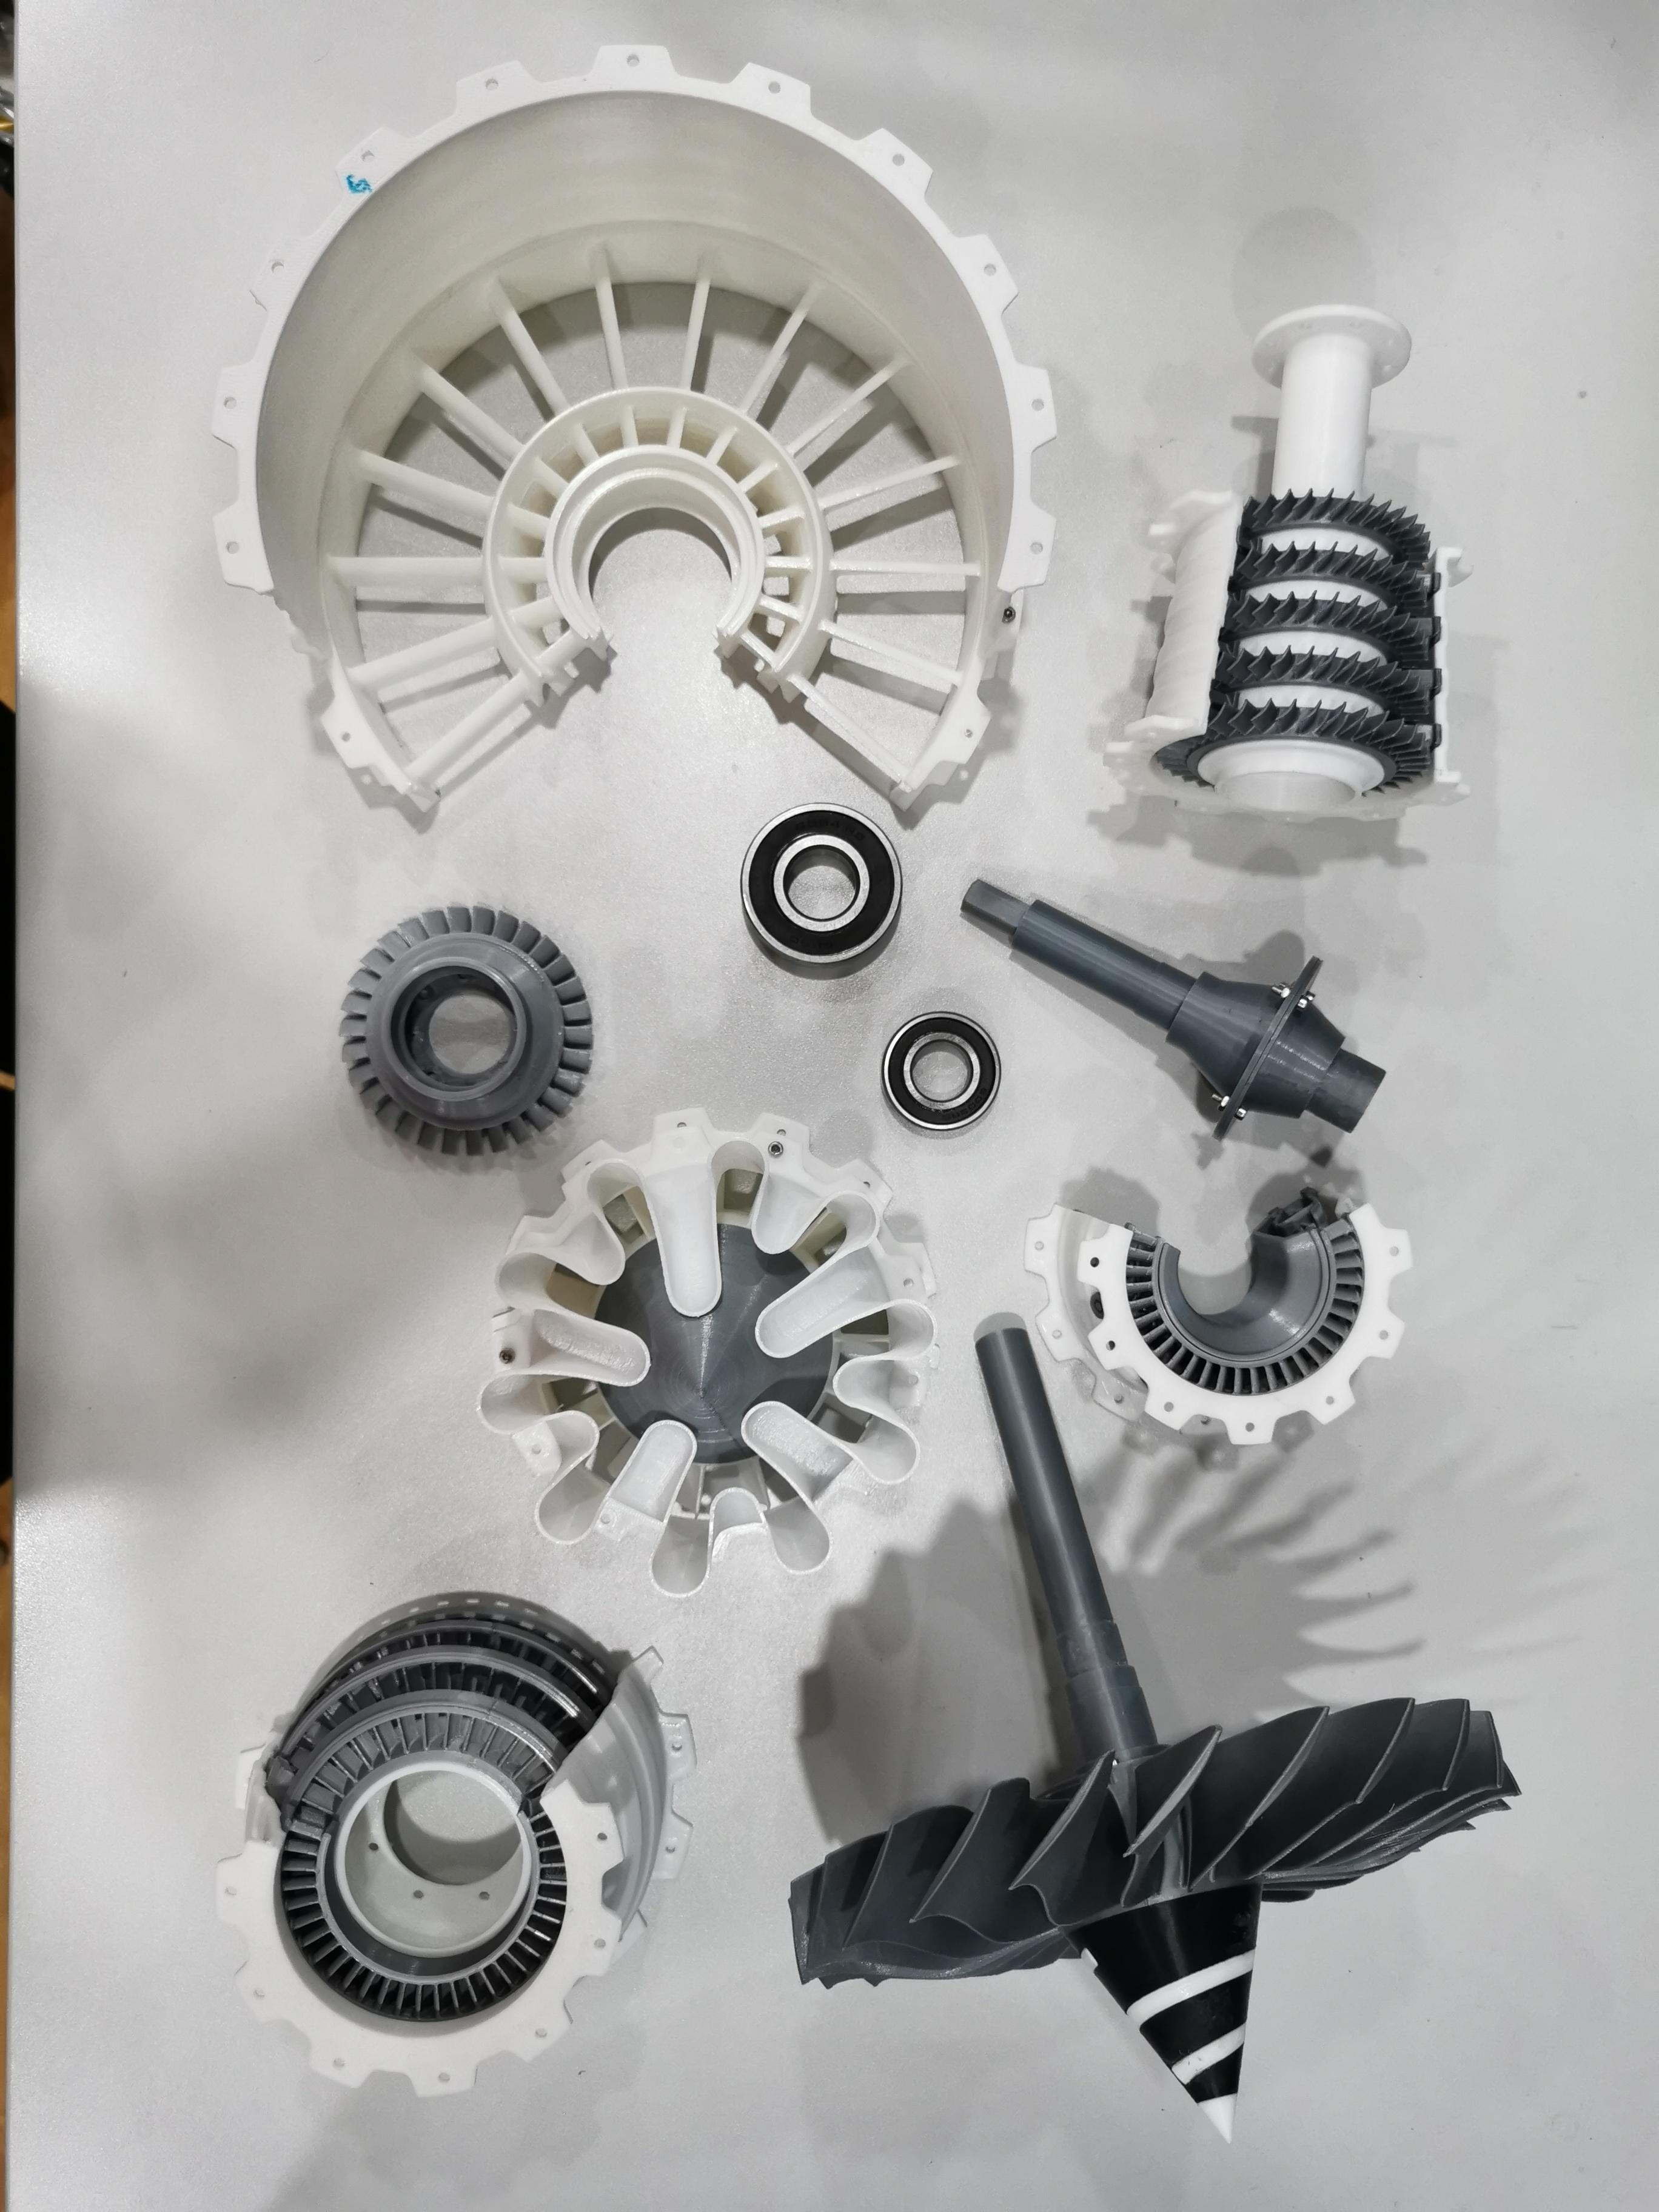Bearing-6003: (847, 984, 1026, 1148)
Bearing-6204: (704, 791, 915, 996)
Combustion Section: (1011, 1169, 1432, 1463)
Fan Casing and Support: (195, 31, 1068, 829)
Fan and Low Pressure Shaft: (769, 1312, 1527, 2156)
HPT Section: (321, 883, 603, 1176)
High Pressure Spool: (1086, 293, 1490, 841)
LPT Section: (188, 1583, 704, 2113)
Low Pressure Spool: (951, 864, 1419, 1162)
Nozzle Section: (465, 1094, 948, 1615)
